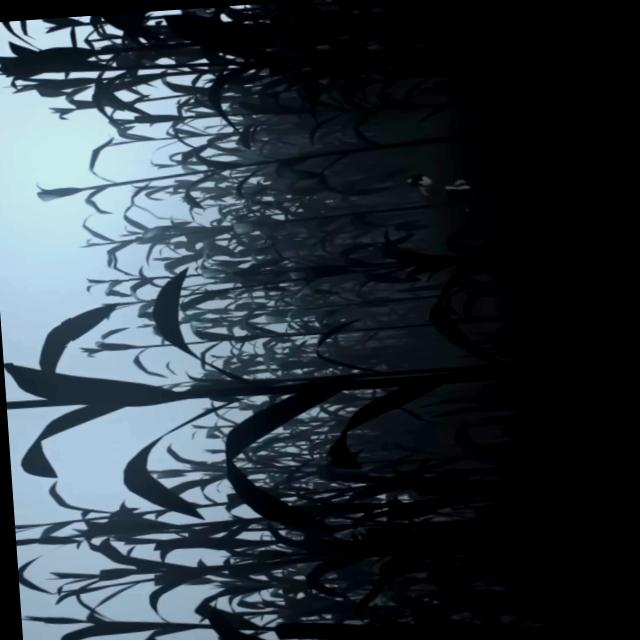boy: (405, 170, 476, 210)
